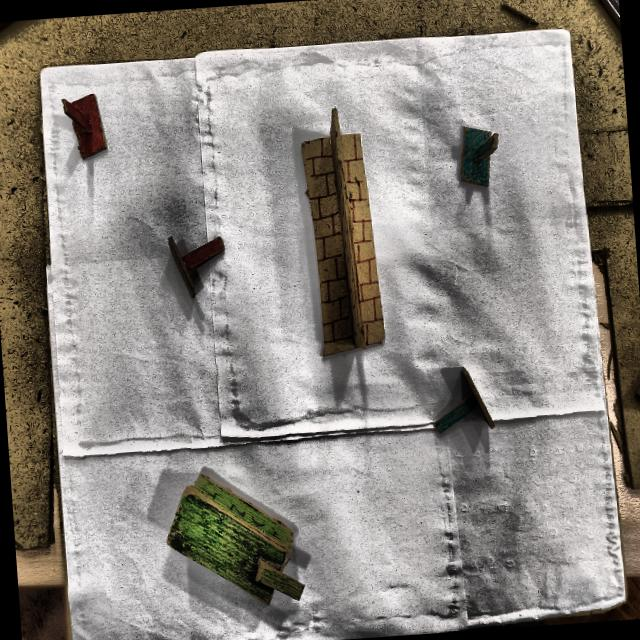Dead soldier -enemy-: (166, 233, 229, 307)
Dead soldier -frd-: (433, 367, 500, 456)
Tank: (169, 472, 307, 606)
Wall: (299, 112, 385, 358)
enemy: (59, 92, 112, 164)
friend: (456, 120, 502, 193)
